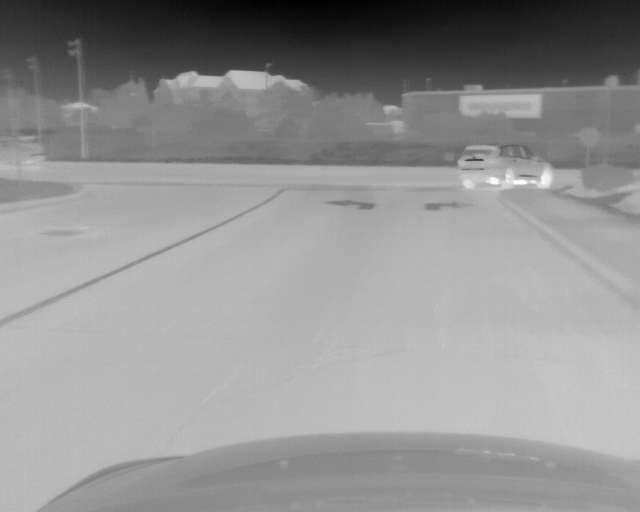car: (456, 142, 556, 190), (2, 135, 45, 168)
